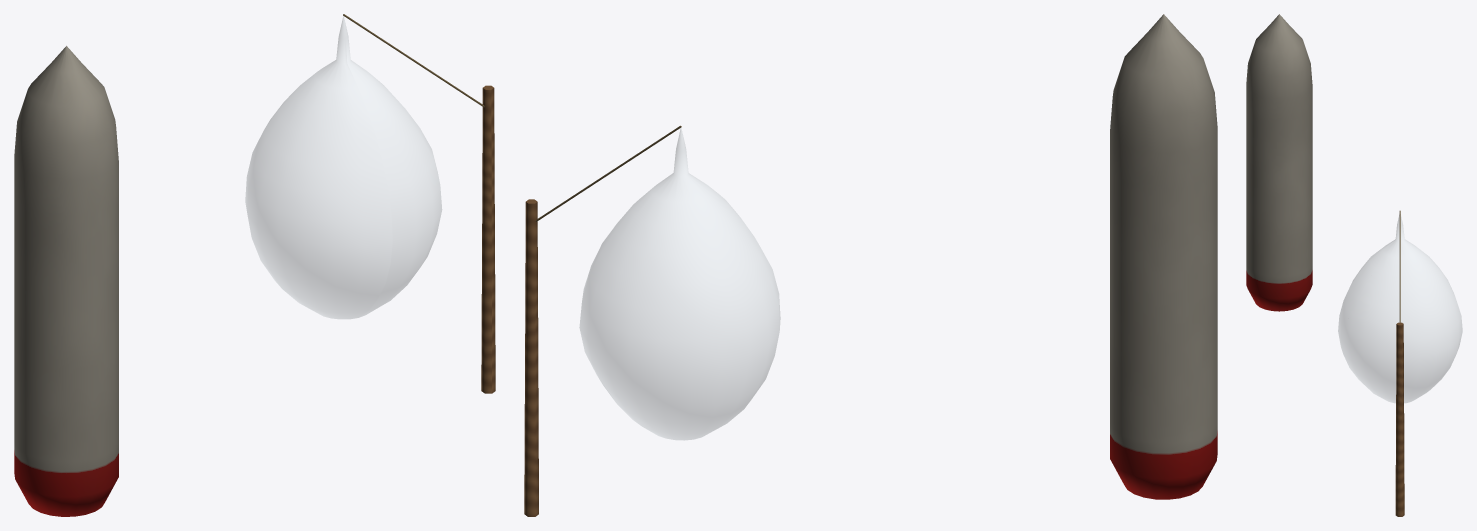
The model's file is acetylene_L1.glb.
3 renders of one model, left to right at view 1: azimuth 30°, elevation 25°; view 2: azimuth 150°, elevation 25°; view 3: azimuth 270°, elevation 25°, orthographic. The views are drawn at different scales.
Visible parts, largest first — view 1: cylinder, bag, stake; view 2: cylinder, bag, stake; view 3: cylinder, bag, stake.
Part boxes in pixels (x1,y1,x2,y2): cylinder: [14, 46, 118, 516]; bag: [245, 16, 441, 318]; stake: [481, 85, 495, 393]; cylinder: [1110, 14, 1217, 499]; bag: [579, 128, 780, 440]; stake: [524, 199, 538, 516]; cylinder: [1246, 14, 1312, 311]; bag: [1338, 215, 1462, 402]; stake: [1395, 322, 1404, 516].
Bounding box in the file's own units: 1.37 × 1.25 × 0.7177.
Materials: 4 (2 with a texture image).
